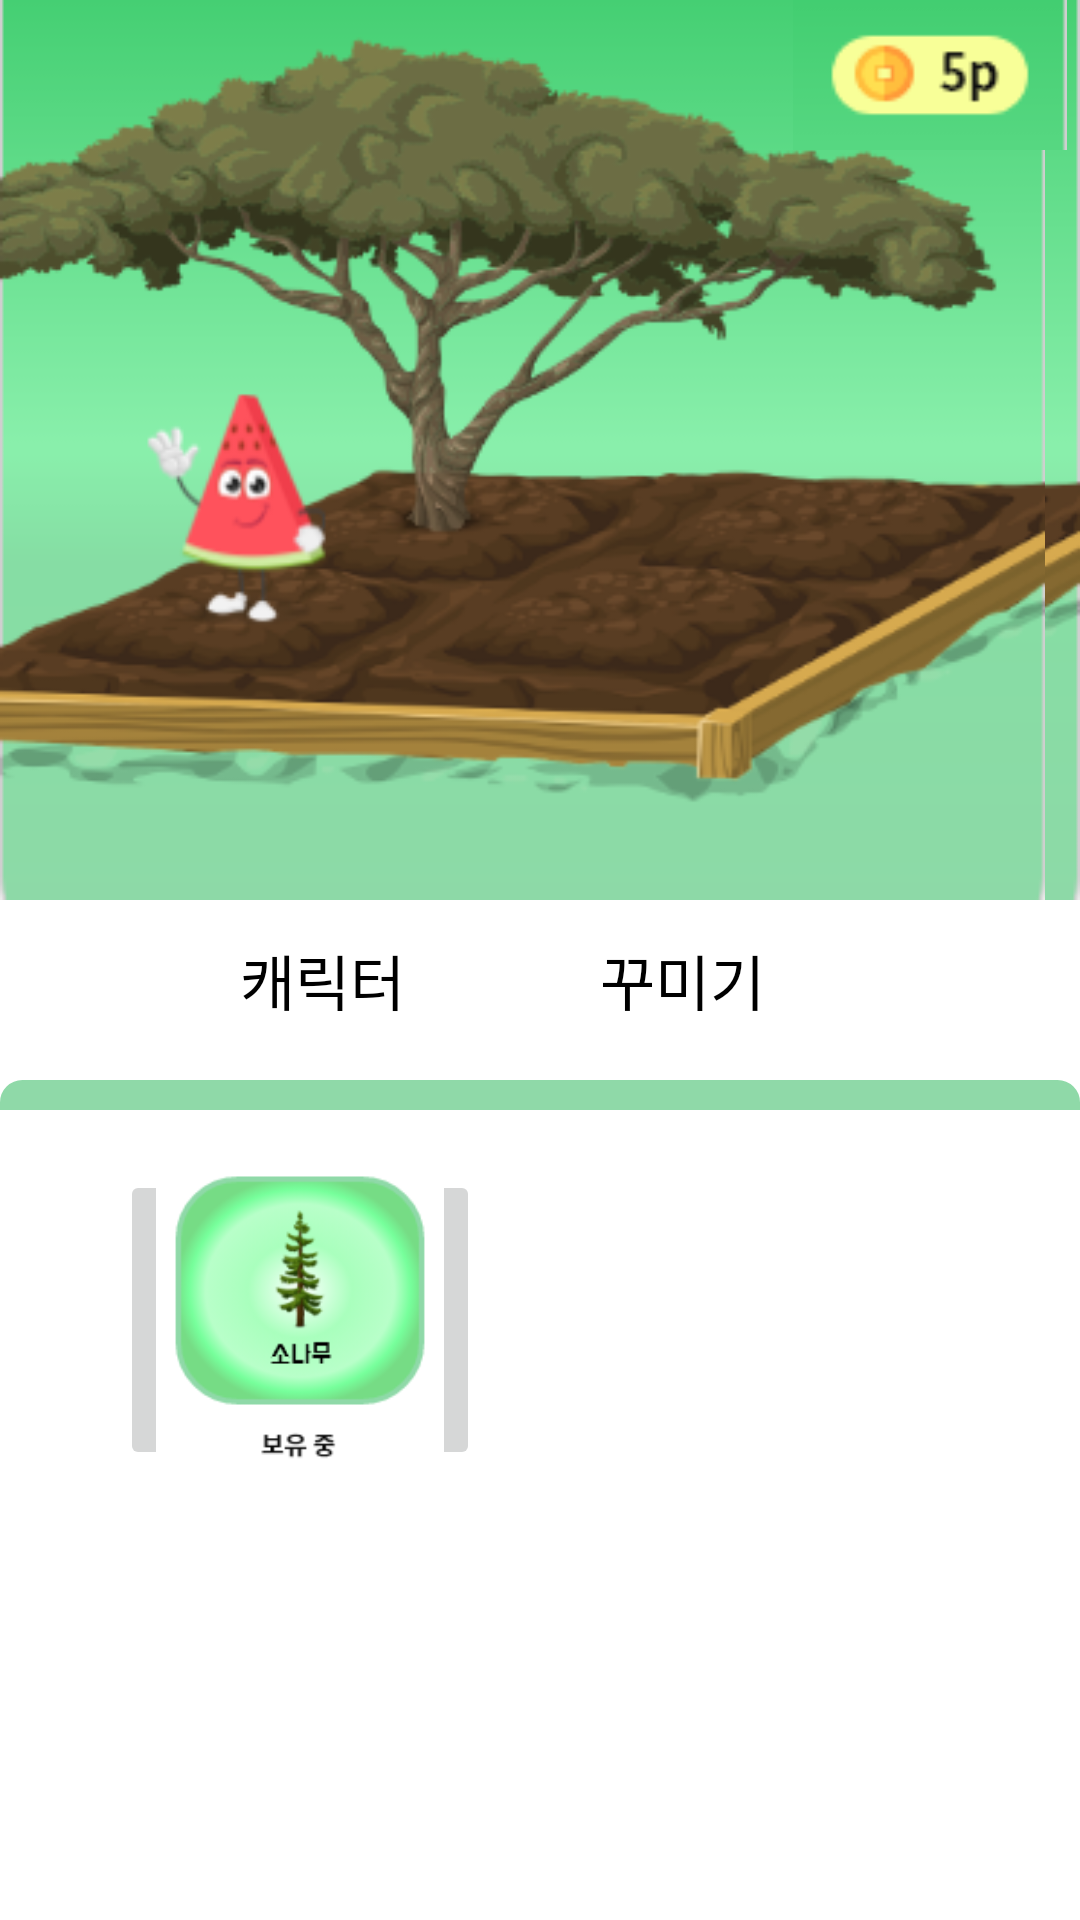

Point at icon controls on the screen. Image size 1080w x 1920h, points as point (x, y).
discount point: point (930, 75)
